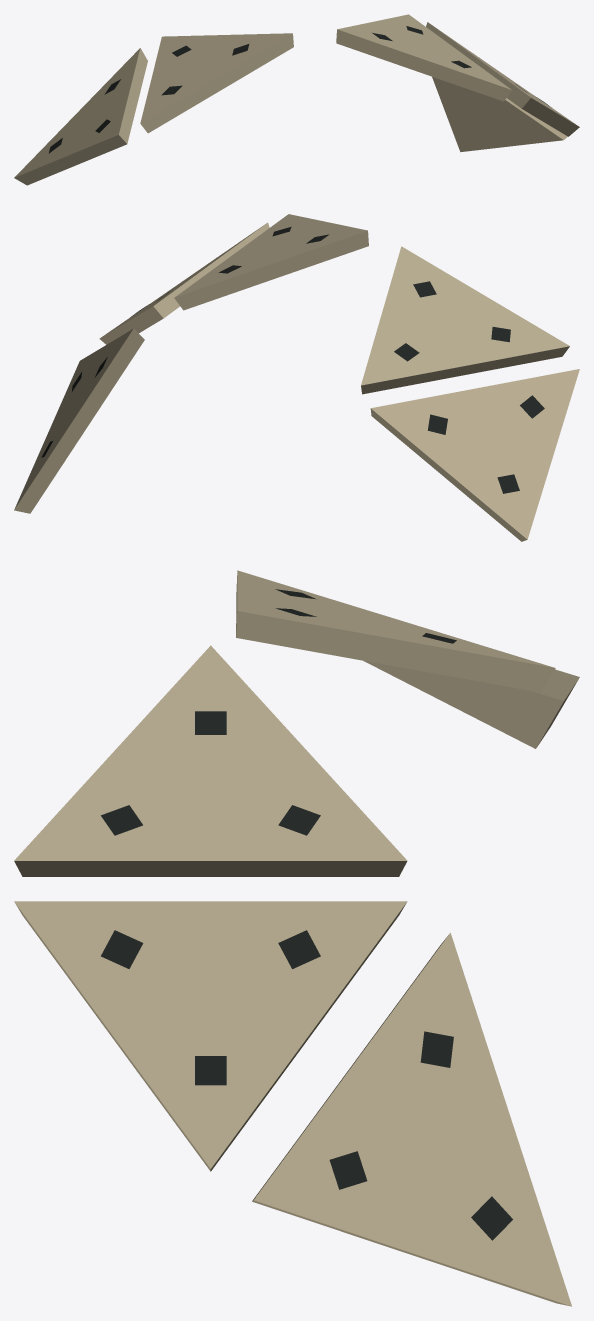
File: shell_kest_c5.glb
The picture shows the model from 3 angles, top to bottom: view 1: azimuth 30°, elevation 25°; view 2: azimuth 150°, elevation 25°; view 3: azimuth 270°, elevation 25°; orthographic projection. The views are drawn at different scales.
Visible parts, largest first — view 1: Pod; view 2: Pod; view 3: Pod.
Boxes of the visible parts, box(x1,y1,x2,y2) form: Pod: box(14, 14, 579, 185); Pod: box(14, 214, 579, 541); Pod: box(14, 570, 579, 1306).
Bounding box in the file's own units: 1.45 × 0.6958 × 0.7769.
